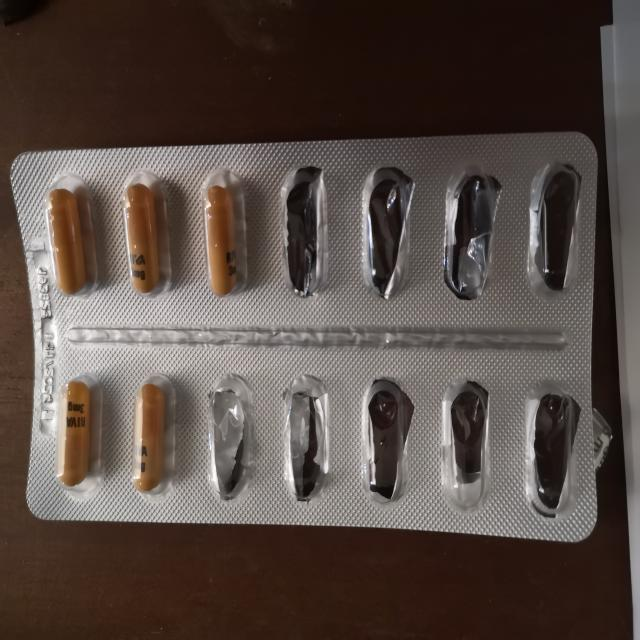Empty: (440, 162, 506, 305), (356, 161, 422, 304), (520, 382, 586, 524), (275, 162, 338, 301), (526, 156, 586, 298), (436, 369, 494, 514), (277, 367, 335, 507), (356, 373, 416, 507), (202, 370, 260, 504)
Pill: (195, 167, 257, 300), (114, 166, 174, 303), (40, 177, 102, 303), (126, 370, 180, 500), (51, 372, 103, 496)
